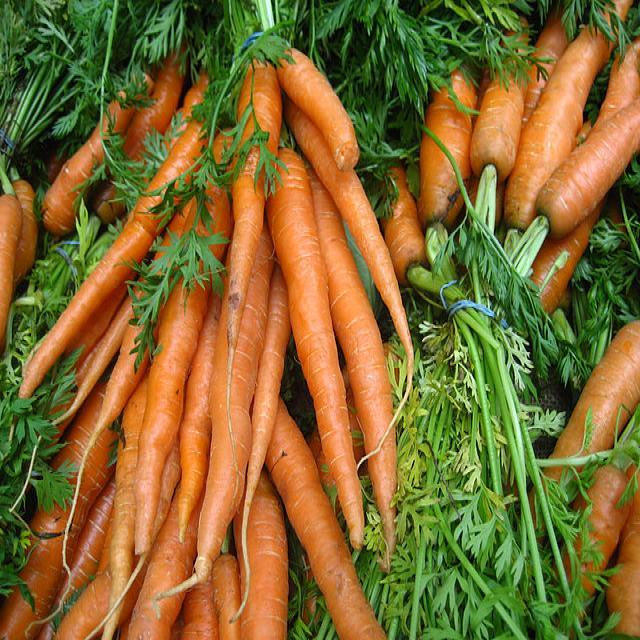Fresh_Carrot: (271, 150, 370, 568), (189, 232, 281, 573), (139, 291, 216, 556), (509, 32, 601, 230), (223, 50, 281, 328), (49, 95, 123, 223)
